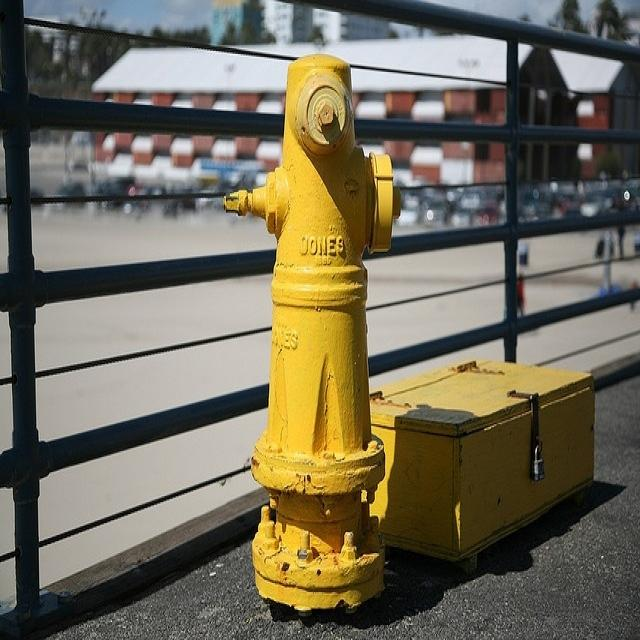fire_hydrant: (246, 73, 457, 583)
